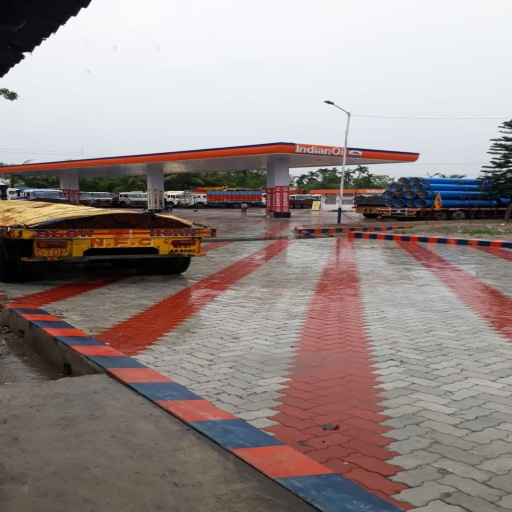roof: (1, 143, 421, 179)
